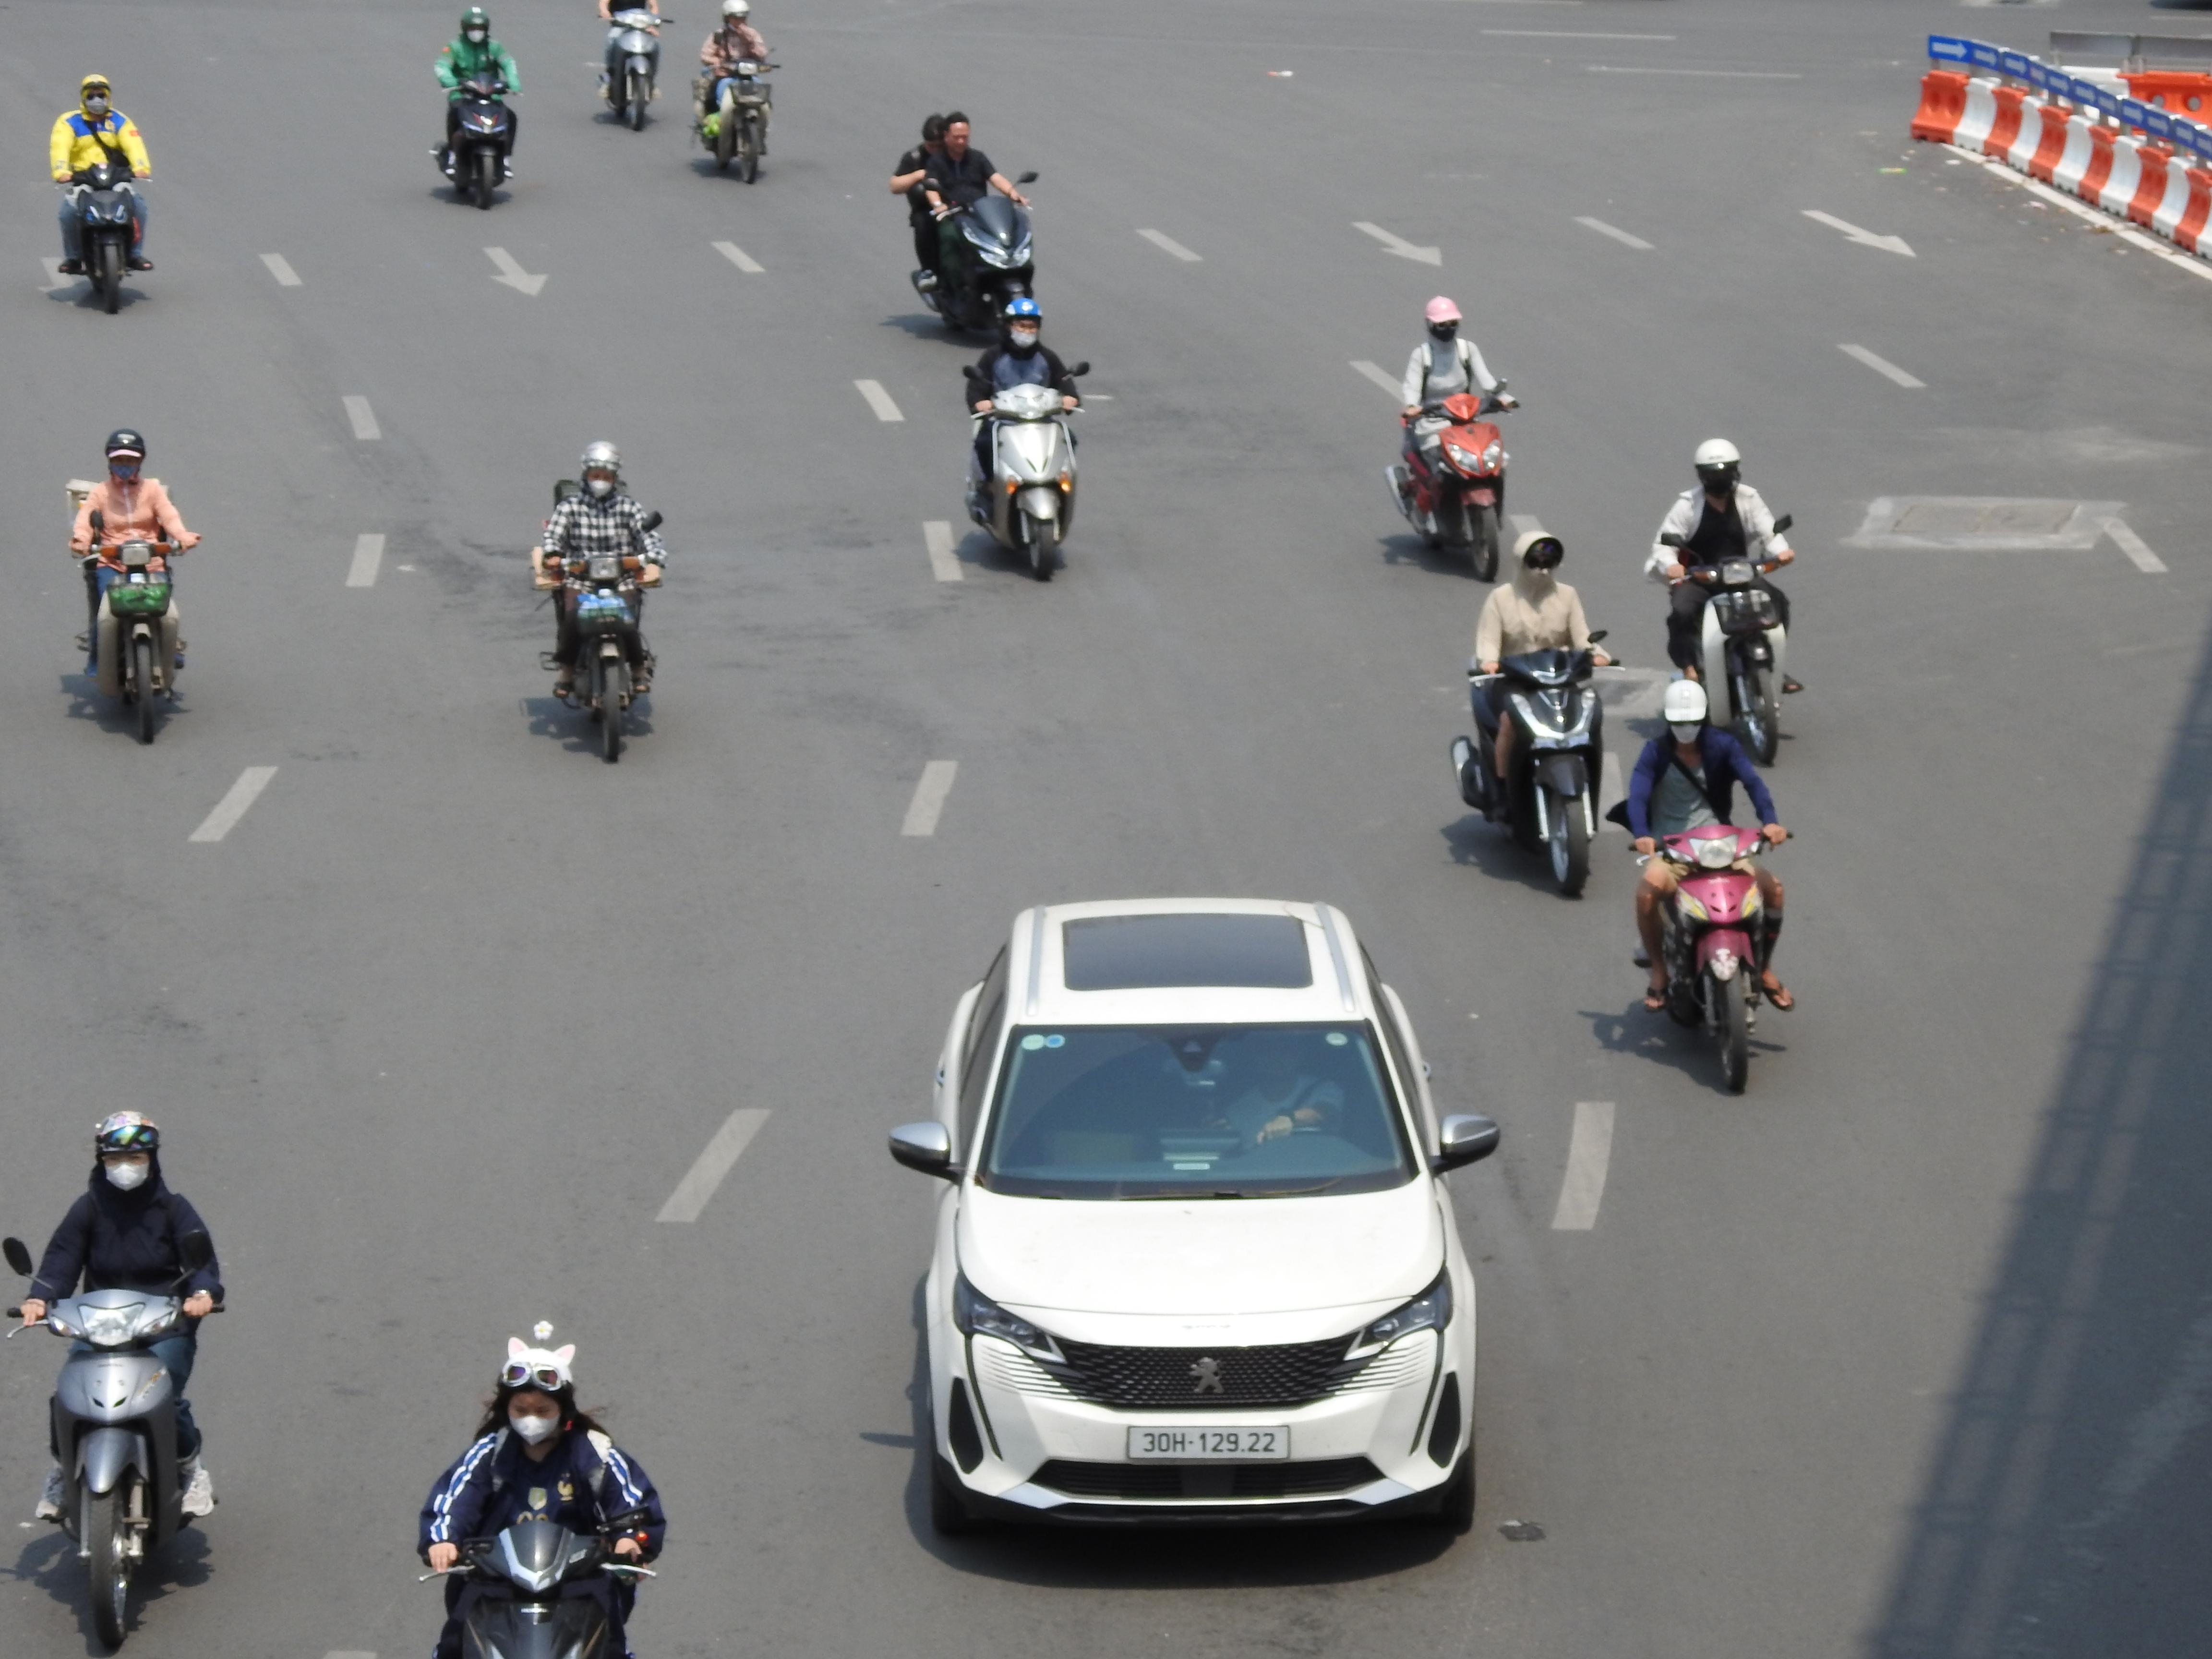BSD: (1129, 1424, 1287, 1462)
car: (885, 896, 1501, 1542)
motorbike: (3, 1110, 223, 1654), (418, 1324, 665, 1659), (1623, 676, 1792, 1098), (1453, 528, 1616, 901), (1651, 437, 1801, 765), (536, 439, 664, 765), (70, 427, 197, 746), (1388, 296, 1517, 584), (963, 295, 1085, 584), (895, 108, 1038, 340), (52, 73, 152, 314), (432, 5, 521, 211), (691, 0, 777, 185), (592, 0, 665, 131)
